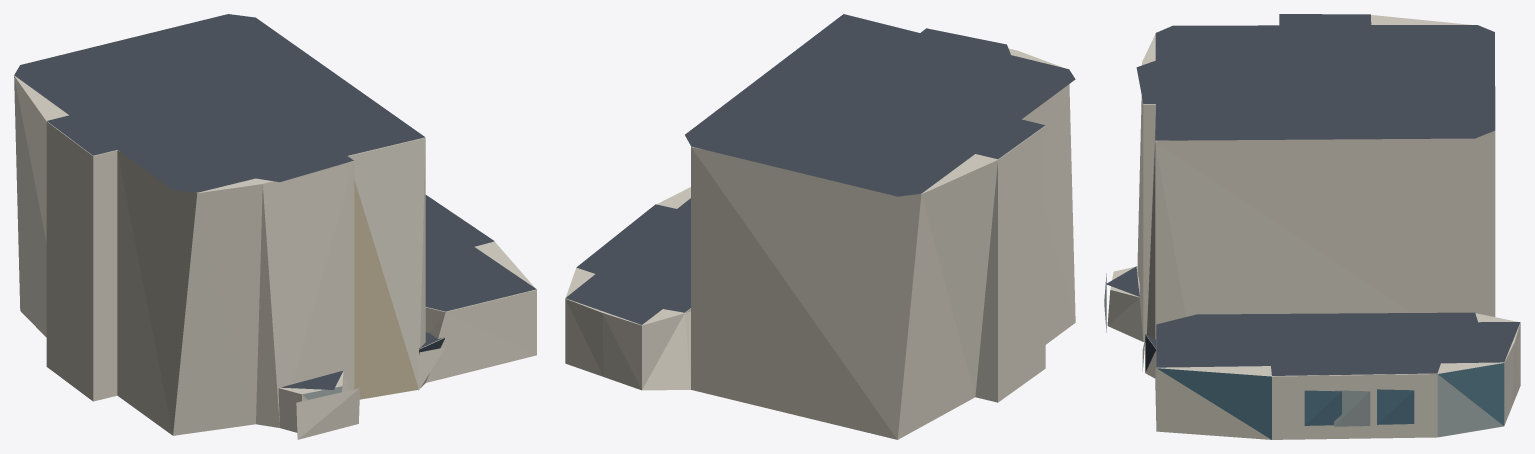
File: plein-theater.lod2.glb
The picture shows the model from 3 angles, left to right: view 1: azimuth 30°, elevation 25°; view 2: azimuth 150°, elevation 25°; view 3: azimuth 270°, elevation 25°; orthographic projection. The views are drawn at different scales.
Visible parts, largest first — view 1: lod2; view 2: lod2; view 3: lod2.
Boxes of the visible parts, left/top/right/bottom form: lod2: left=14, top=14, right=536, bottom=439; lod2: left=565, top=14, right=1075, bottom=439; lod2: left=1104, top=14, right=1520, bottom=439.
Size of the model in its own units: 30.75 by 18.12 by 28.72.
